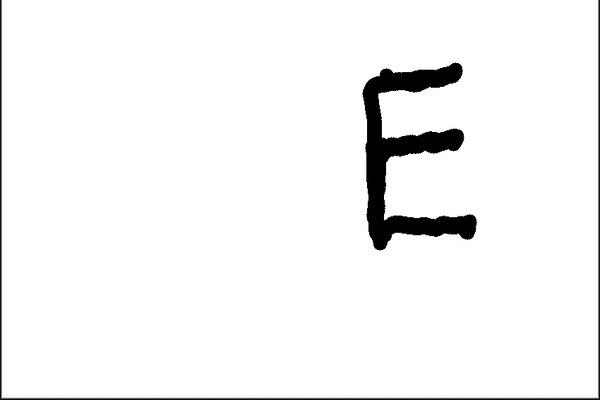E: (357, 61, 485, 253)
